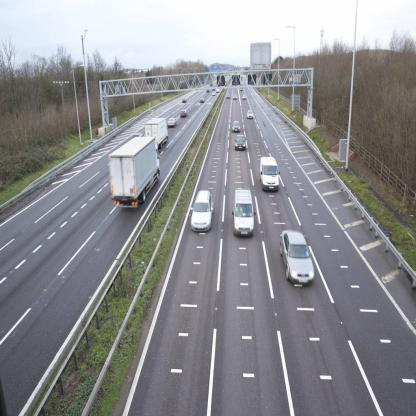Truck: (110, 133, 165, 213), (231, 188, 255, 240), (145, 116, 168, 152), (260, 157, 280, 193)
